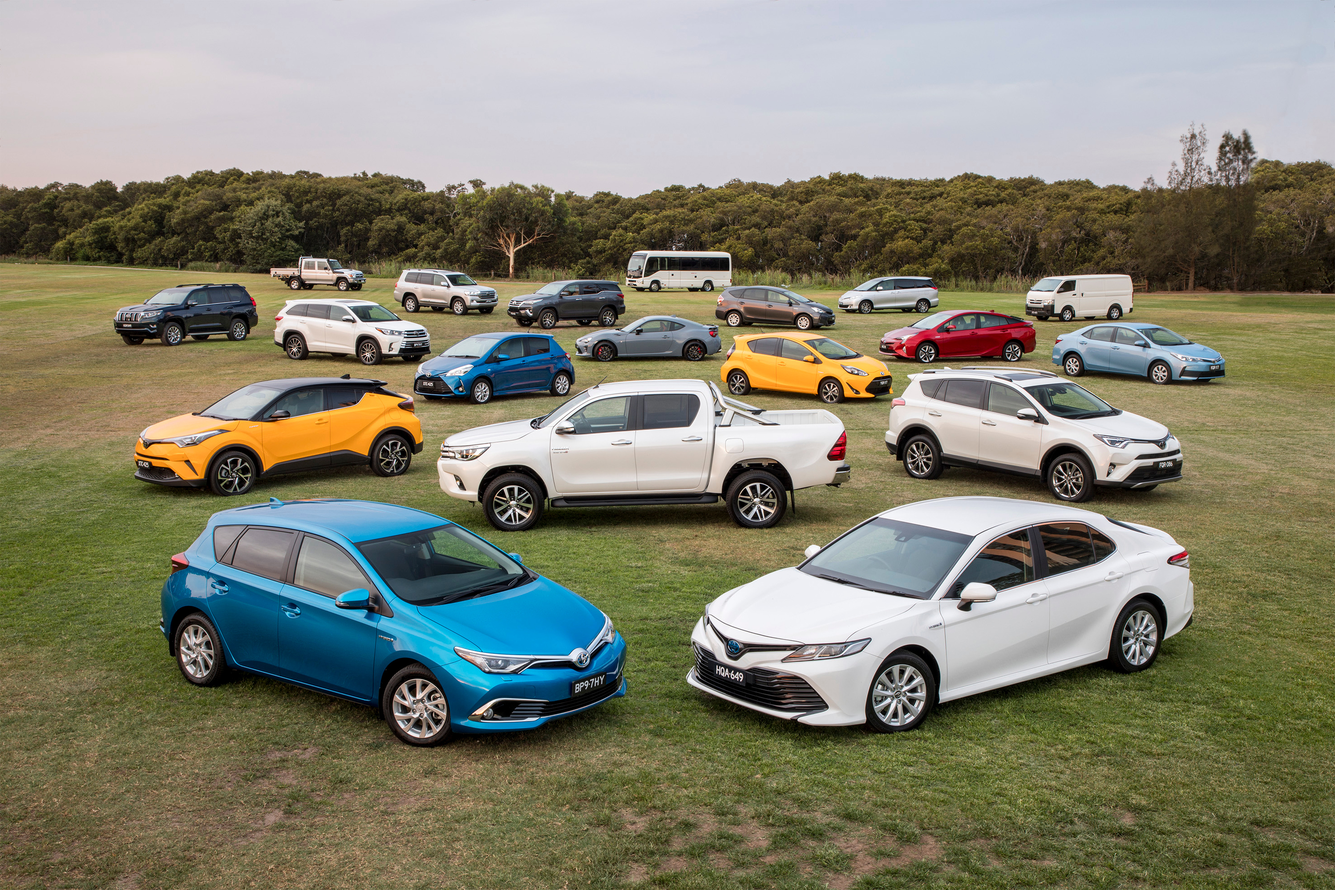other: (673, 488, 1204, 734), (158, 499, 629, 746), (446, 388, 849, 529), (886, 369, 1183, 506), (136, 375, 426, 485), (718, 324, 898, 409), (1047, 319, 1227, 385), (413, 333, 577, 404), (280, 298, 429, 363), (117, 283, 257, 347), (874, 311, 1037, 362), (576, 317, 721, 368), (622, 237, 733, 294), (392, 263, 495, 324), (708, 280, 827, 332), (511, 274, 615, 332), (1029, 274, 1137, 324), (264, 251, 365, 299), (837, 277, 946, 314)
